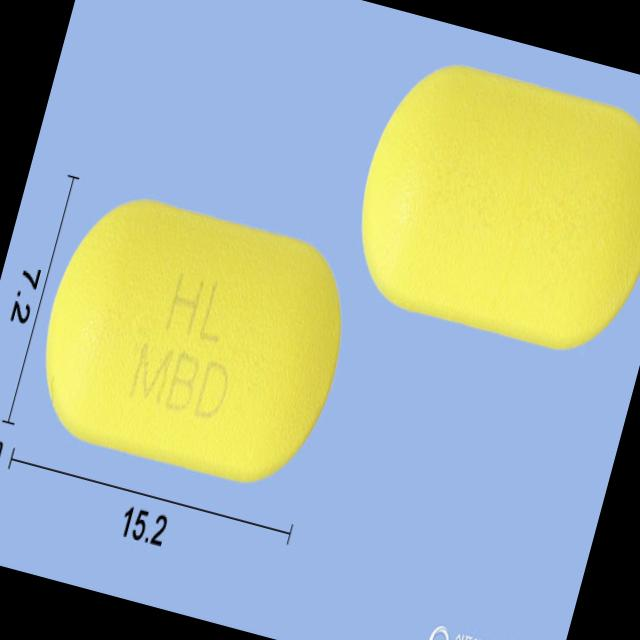Mabid -500mg: (21, 185, 365, 501)
